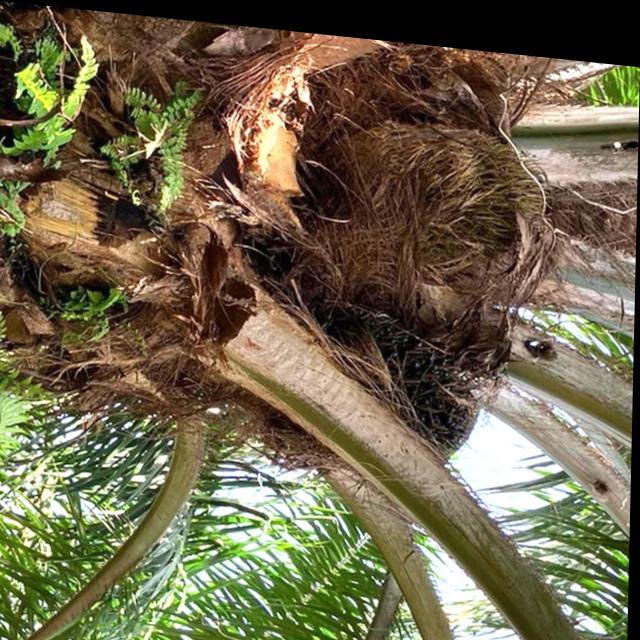unripe: (324, 290, 501, 456)
